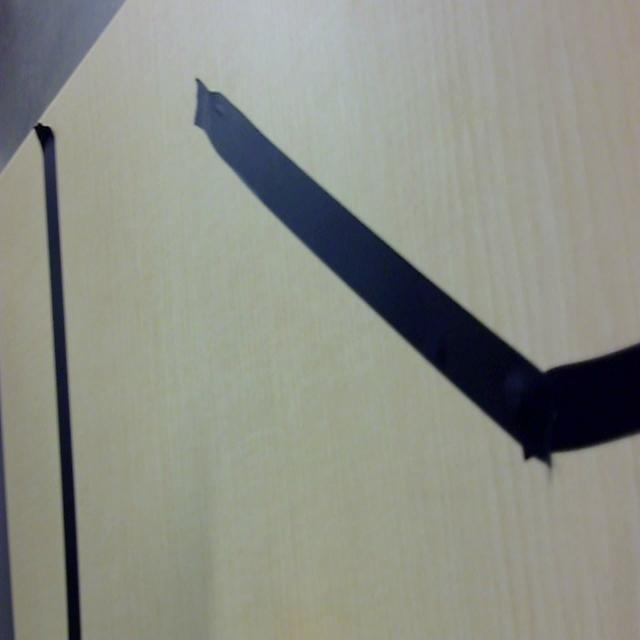tape: (181, 64, 640, 492), (24, 97, 95, 640)
